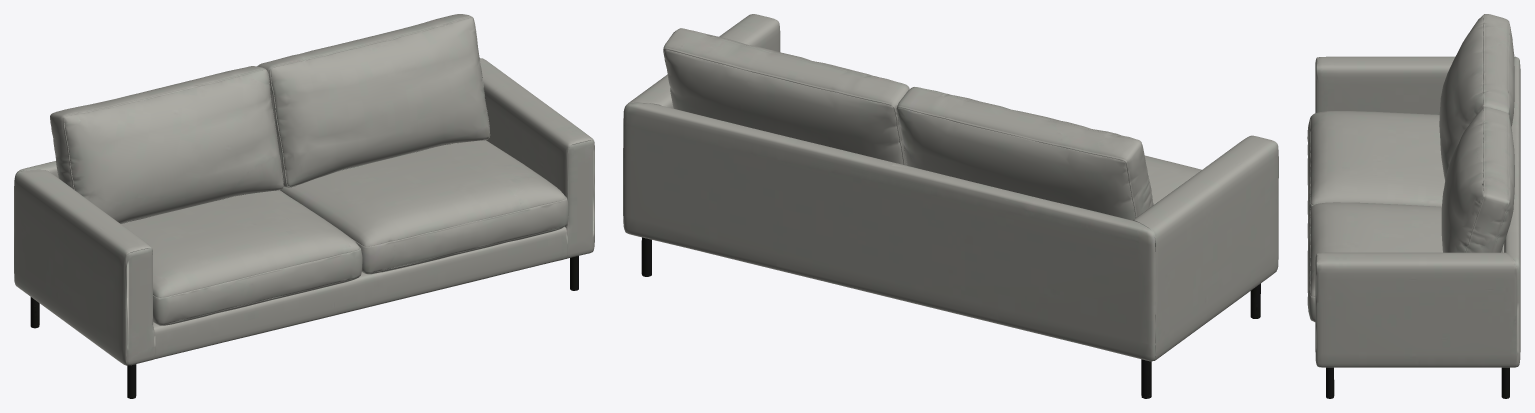
File: 09 - SALTSJÖBADEN - 三人座沙發，Tonerud 灰色 IKEA 線上購物.glb
The picture shows the model from 3 angles, left to right: view 1: azimuth 30°, elevation 25°; view 2: azimuth 150°, elevation 25°; view 3: azimuth 270°, elevation 25°; orthographic projection. The views are drawn at different scales.
Parts seen in each view (by area): view 1: 0000.001; view 2: 0000.001; view 3: 0000.001.
Boxes of the visible parts, x1=… form: 0000.001: x1=14, y1=14, x2=594, y2=398; 0000.001: x1=623, y1=14, x2=1278, y2=398; 0000.001: x1=1307, y1=14, x2=1520, y2=398.
Bounding box in the file's own units: 2.05 × 0.8894 × 0.8804.
1 material, 1 textured.
